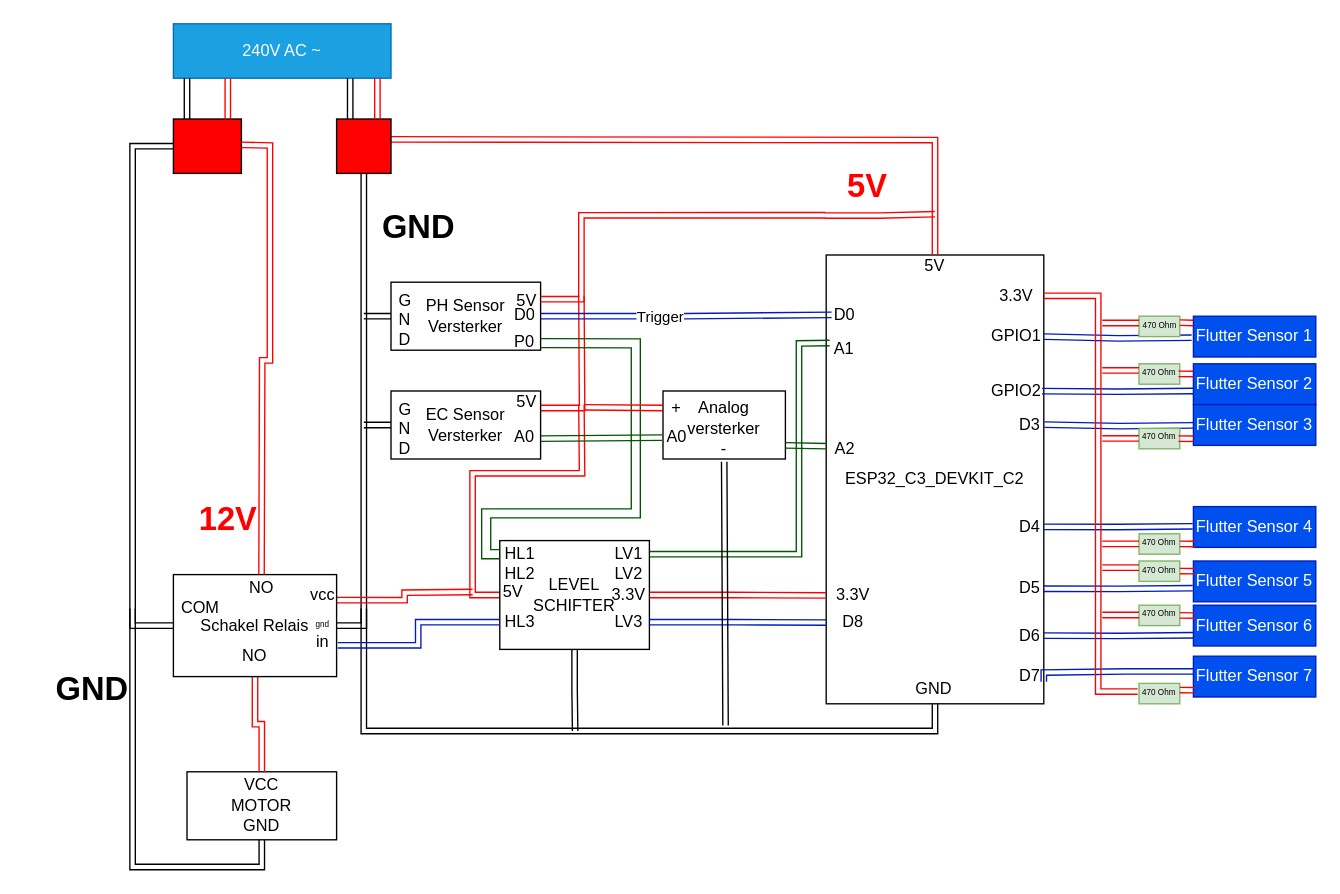
Some shapes in this 1340 by 894 pixel diagram are drawn without their labels. Each missing label, with the centre of its shape:
12V Trans: (x=206, y=145)
5V Trans: (x=363, y=145)
